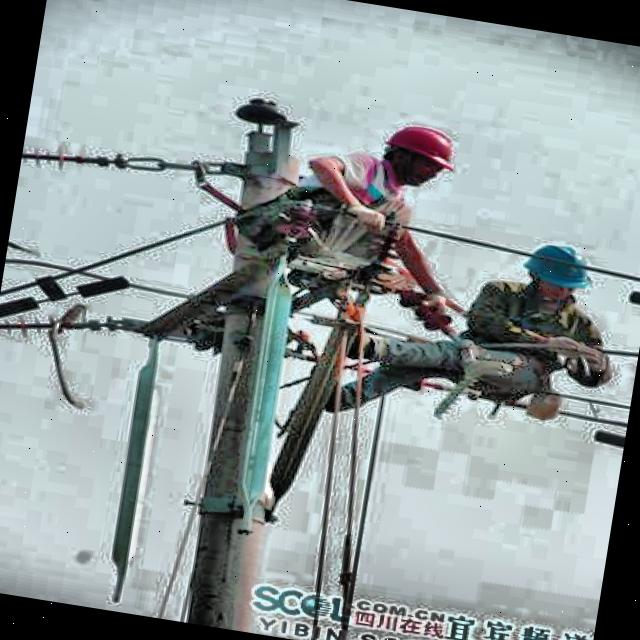helmet: (369, 112, 464, 198), (518, 236, 600, 302)
